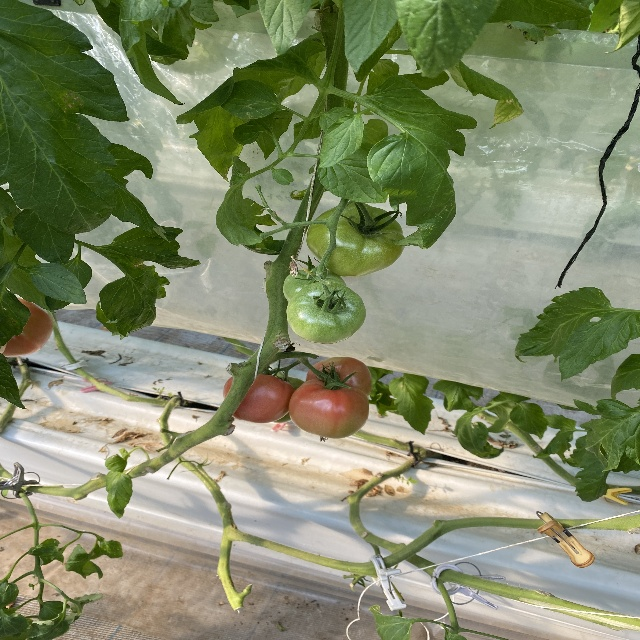b_fully_ripened: (223, 374, 295, 423)
b_green: (306, 201, 406, 277), (286, 281, 366, 344), (282, 269, 347, 302)
b_half_ripened: (288, 379, 370, 439), (4, 299, 54, 357), (306, 356, 372, 397)
